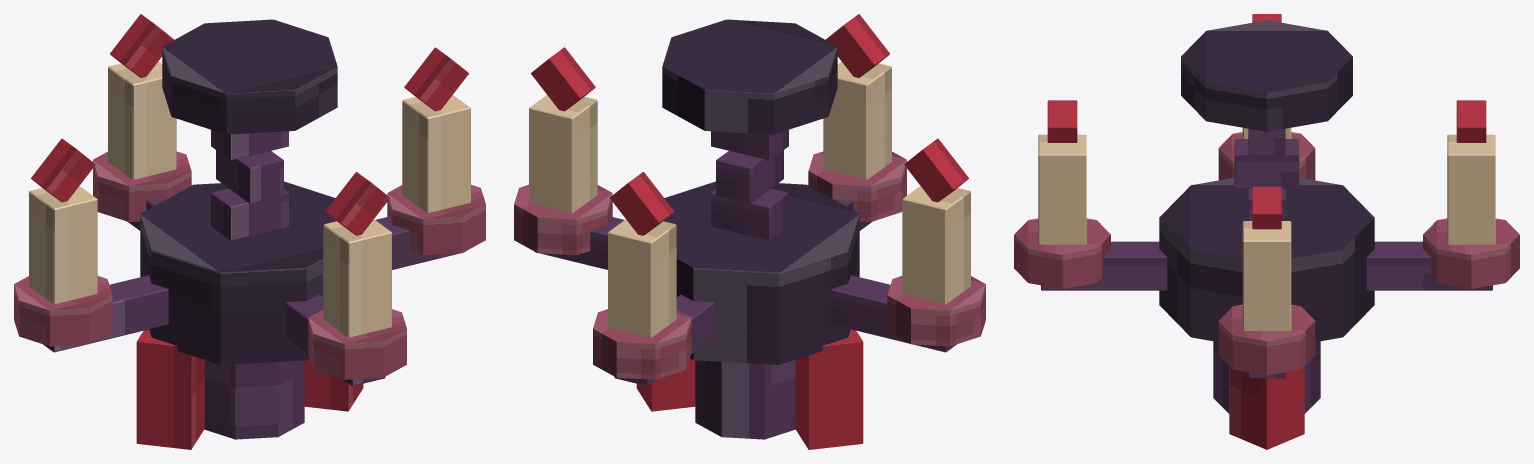
File: dining_chandelier_gothic.glb
The picture shows the model from 3 angles, left to right: view 1: azimuth 30°, elevation 25°; view 2: azimuth 150°, elevation 25°; view 3: azimuth 270°, elevation 25°; orthographic projection. The views are drawn at different scales.
Visible parts, largest first — view 1: ChandelierHub, CeilingMount, LowerFinial, Candle_3, Candle_1, Candle_2, GothicSpike_L, Candle_4, CandleCup_1, CandleCup_3, CandleCup_2, CandleCup_4 (+11 smaller); view 2: ChandelierHub, CeilingMount, LowerFinial, Candle_4, Candle_1, Candle_2, GothicSpike_L, Candle_3, CandleCup_1, CandleCup_4, CandleCup_2, CandleCup_3 (+11 smaller); view 3: ChandelierHub, CeilingMount, Candle_2, GothicSpike_R, Candle_3, Candle_4, CandleCup_2, CandleCup_3, CandleCup_4, Arm_3, Arm_4, ChainLink_2 (+6 smaller).
Boxes of the visible parts, x1,y1,x2,y2 form: ChandelierHub: (140, 181, 336, 364); CeilingMount: (162, 19, 337, 134); LowerFinial: (204, 360, 304, 439); Candle_3: (323, 219, 391, 337); Candle_1: (29, 186, 97, 304); Candle_2: (402, 95, 470, 212); GothicSpike_L: (136, 329, 204, 449); Candle_4: (108, 61, 176, 179); CandleCup_1: (14, 276, 112, 346); CandleCup_3: (308, 309, 406, 379); CandleCup_2: (387, 184, 485, 255); CandleCup_4: (93, 151, 191, 221); ChandelierHub: (663, 181, 859, 364); CeilingMount: (662, 19, 837, 134); LowerFinial: (695, 360, 795, 439); Candle_4: (608, 219, 676, 337); Candle_1: (902, 186, 970, 304); Candle_2: (529, 95, 597, 212); GothicSpike_L: (795, 329, 863, 449); Candle_3: (823, 61, 891, 179); CandleCup_1: (887, 276, 985, 346); CandleCup_4: (593, 309, 691, 379); CandleCup_2: (514, 184, 612, 255); CandleCup_3: (808, 151, 906, 221); ChandelierHub: (1159, 177, 1374, 341); CeilingMount: (1181, 20, 1352, 131); Candle_2: (1242, 221, 1291, 330); GothicSpike_R: (1229, 366, 1304, 449); Candle_3: (1038, 134, 1086, 244); Candle_4: (1447, 134, 1495, 244); CandleCup_2: (1218, 304, 1315, 375); CandleCup_3: (1014, 218, 1110, 288); CandleCup_4: (1423, 218, 1519, 288); Arm_3: (1041, 241, 1167, 290); Arm_4: (1366, 241, 1492, 290); ChainLink_2: (1234, 139, 1299, 188).
Bounding box in the file's own units: 0.94 × 0.7 × 0.94.
Materials: 1 (1 with a texture image).
